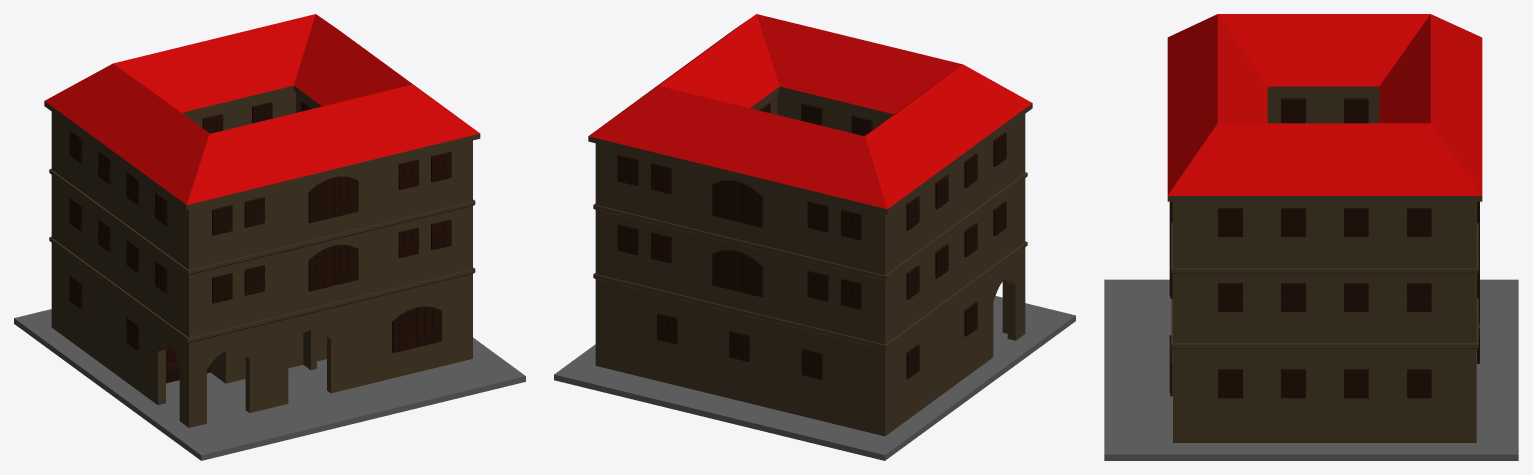
File: vertices.obj
3 renders of one model, left to right at view 1: azimuth 30°, elevation 25°; view 2: azimuth 150°, elevation 25°; view 3: azimuth 270°, elevation 25°, orthographic. The views are drawn at different scales.
Visible parts, largest first — view 1: Insula_Insula.003_Concrete, Insula_Insula.003_Roof, Insula_Insula.003_Floor, Insula_Insula.003_Wood2; view 2: Insula_Insula.003_Concrete, Insula_Insula.003_Roof, Insula_Insula.003_Wood2, Insula_Insula.003_Floor; view 3: Insula_Insula.003_Concrete, Insula_Insula.003_Roof, Insula_Insula.003_Floor, Insula_Insula.003_Wood2.
Part boxes in pixels (bbox=[...]): Insula_Insula.003_Concrete: bbox=[44, 85, 480, 427]; Insula_Insula.003_Roof: bbox=[45, 14, 479, 204]; Insula_Insula.003_Floor: bbox=[14, 309, 525, 460]; Insula_Insula.003_Wood2: bbox=[69, 101, 451, 353]; Insula_Insula.003_Concrete: bbox=[588, 86, 1032, 436]; Insula_Insula.003_Roof: bbox=[588, 14, 1032, 209]; Insula_Insula.003_Wood2: bbox=[617, 103, 1006, 379]; Insula_Insula.003_Floor: bbox=[554, 296, 1075, 460]; Insula_Insula.003_Concrete: bbox=[1167, 86, 1482, 442]; Insula_Insula.003_Roof: bbox=[1167, 14, 1482, 195]; Insula_Insula.003_Floor: bbox=[1104, 279, 1518, 460]; Insula_Insula.003_Wood2: bbox=[1169, 98, 1479, 398].
Bounding box in the file's own units: 6 × 4.86 × 6.
